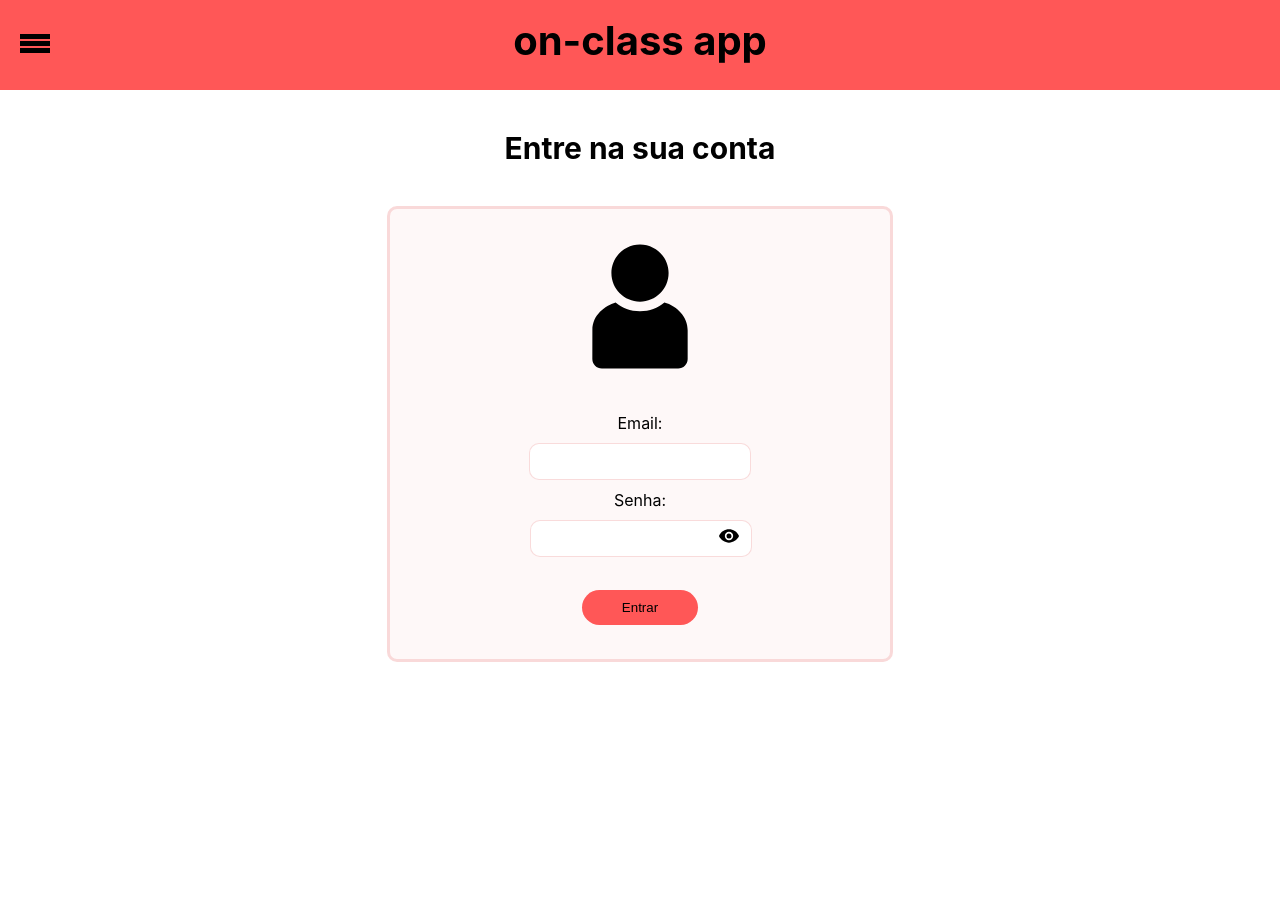
Test: Login › when type is student › should have ClosedEyeSvg in the document when click on `opened-eye-svg`
Click the icon with test id "opened-eye-svg".
click(729, 536)  # box x1=719 y1=526 x2=739 y2=546
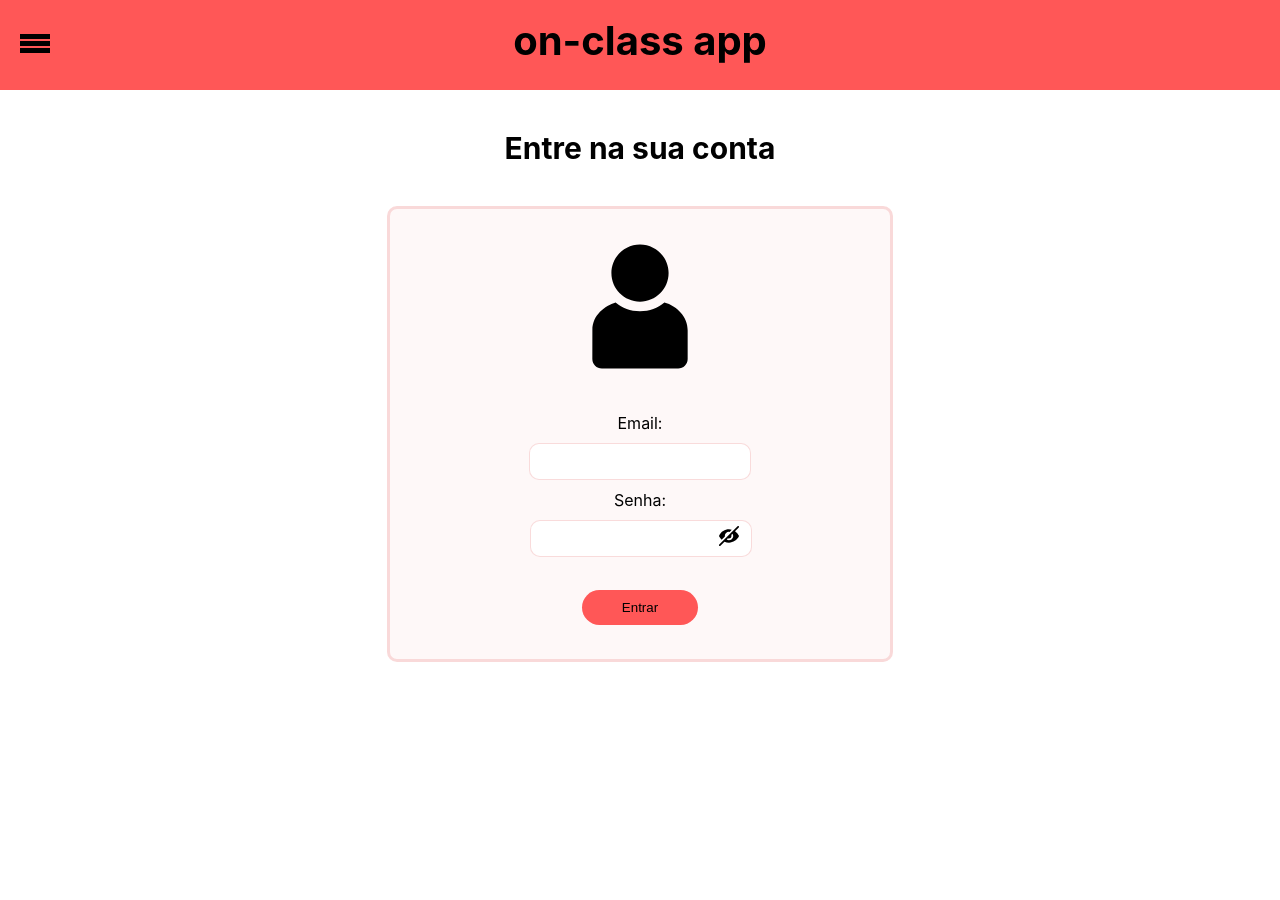
Check: the icon with test id "closed-eye-svg" is shown, box x1=719 y1=526 x2=739 y2=546
